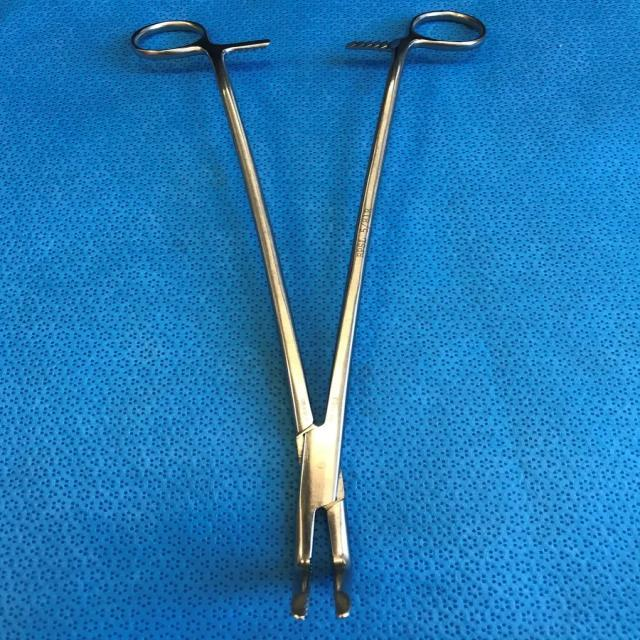Rectangle Cholecystectomy Forceps: (121, 12, 492, 626)
